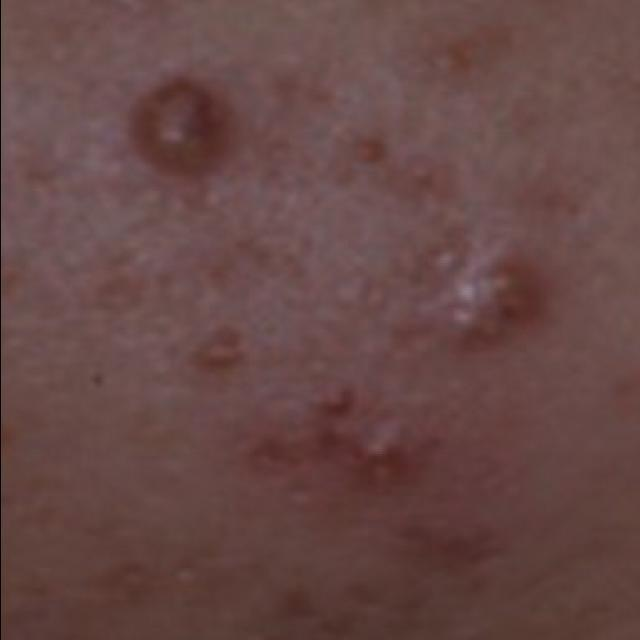acne: (218, 198, 560, 640), (84, 42, 256, 210)
